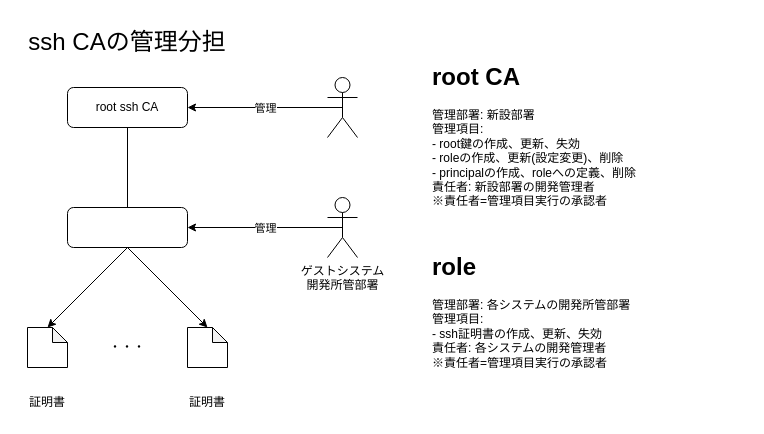
The diagram is 764 pixels wide and 434 high, and some of its shapes have lost their labels. Here are the shapes that lost their labels. From the top down, the centre of each, then its label:
At point 342,107: "新設部署".
At point 127,227: "role".
